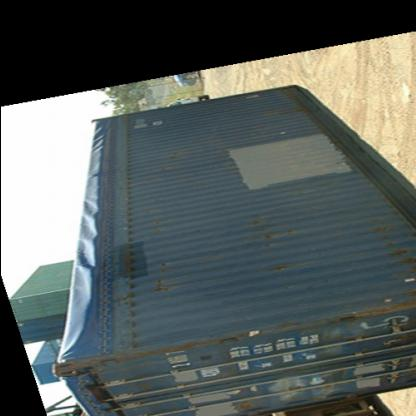Damage: (380, 234, 416, 274), (242, 210, 277, 248), (146, 253, 174, 297), (270, 102, 308, 124), (158, 144, 180, 168), (264, 256, 288, 275)
